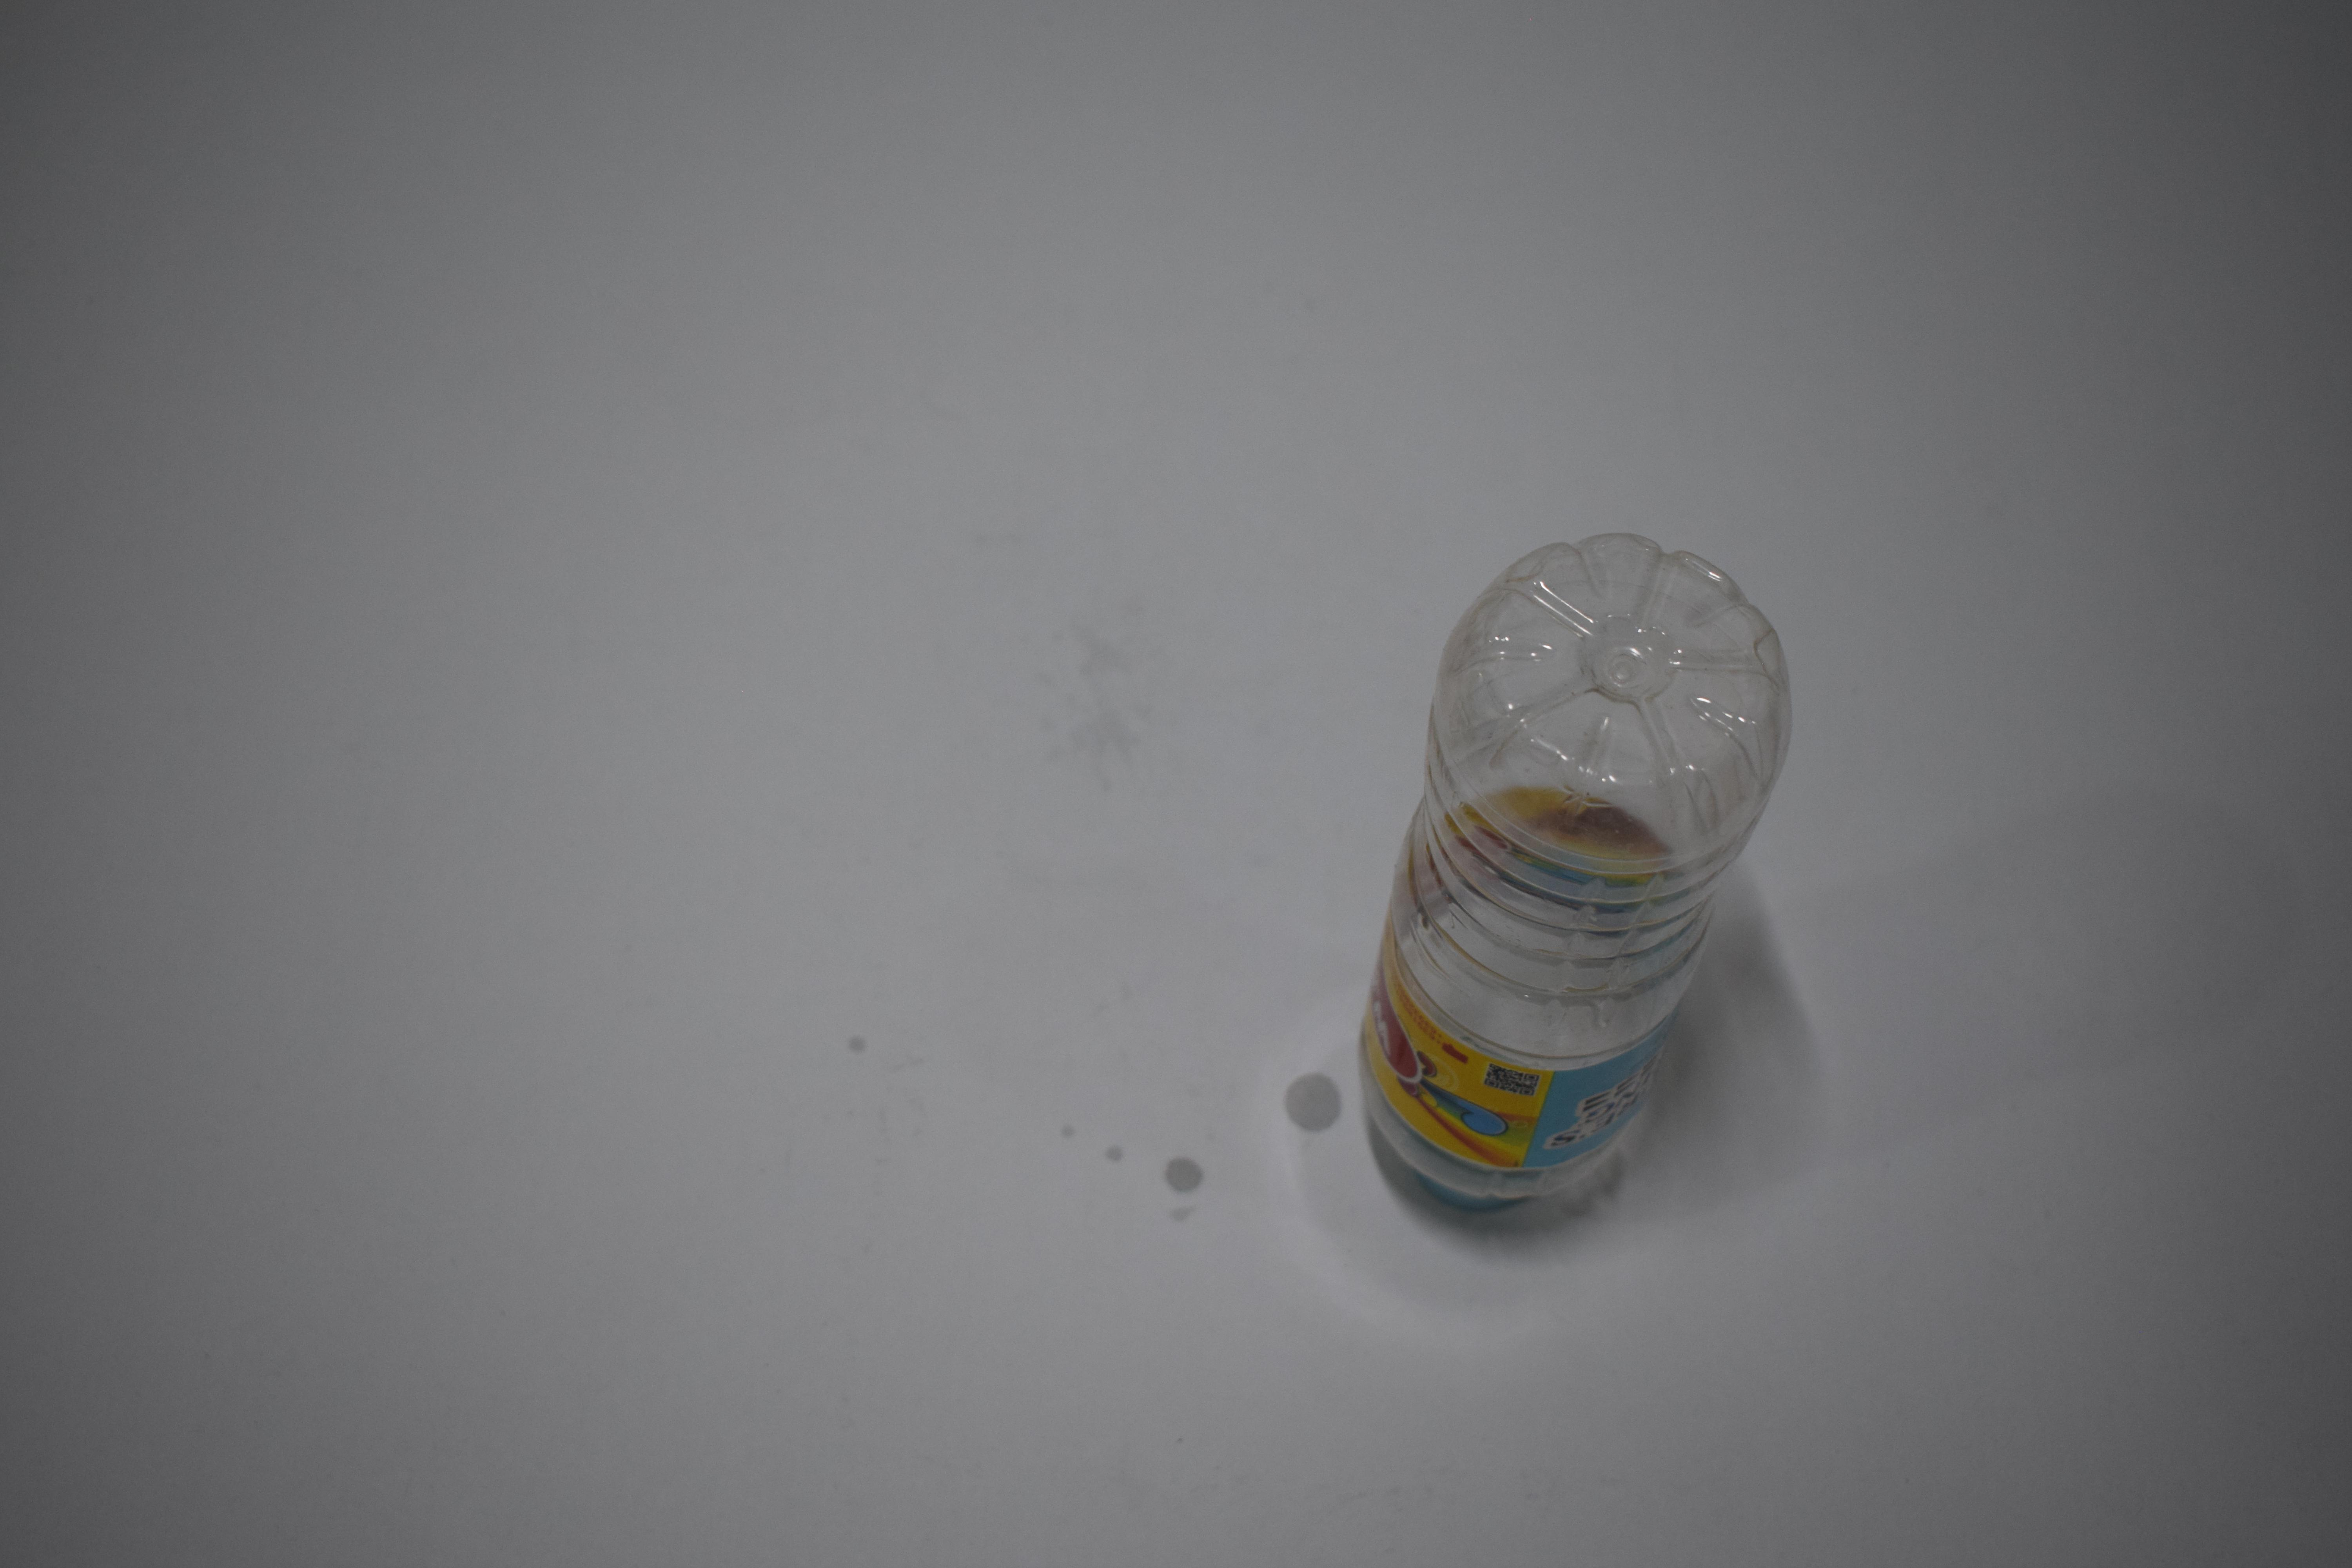bottle: (1349, 0, 1803, 325)
